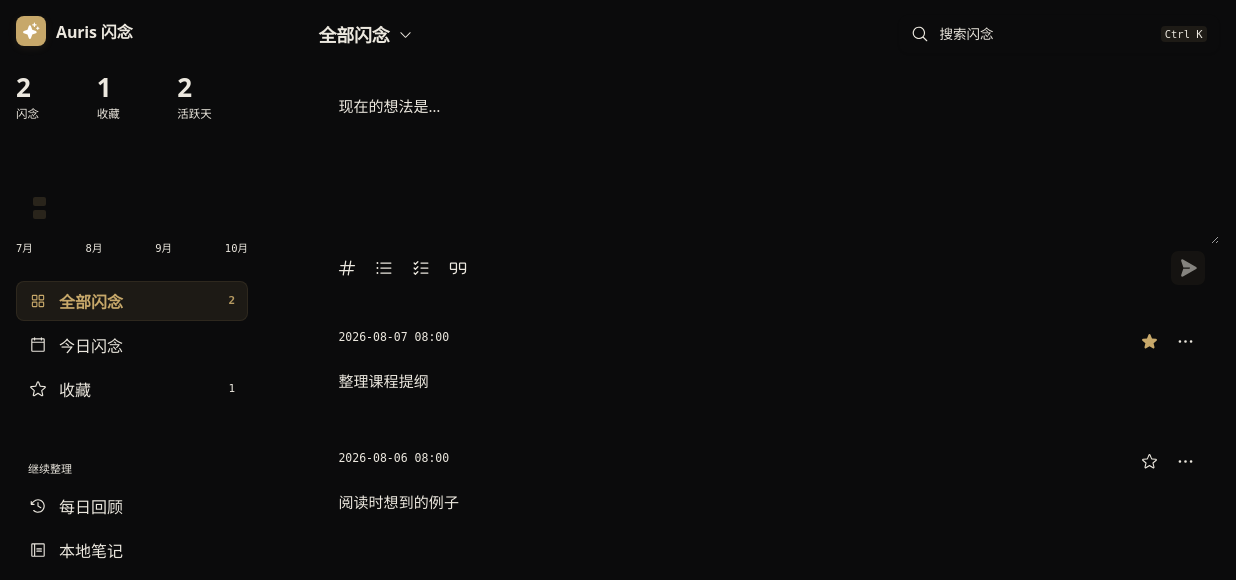
Test: FlashPageClient › keeps the flash and reports when the notes library is unavailable
Expected: the text "整理课程提纲" is shown, [338, 371, 429, 391]
Click the button named "更多操作 整理课程提纲". click: x=1186, y=341
box: [1169, 324, 1203, 358]
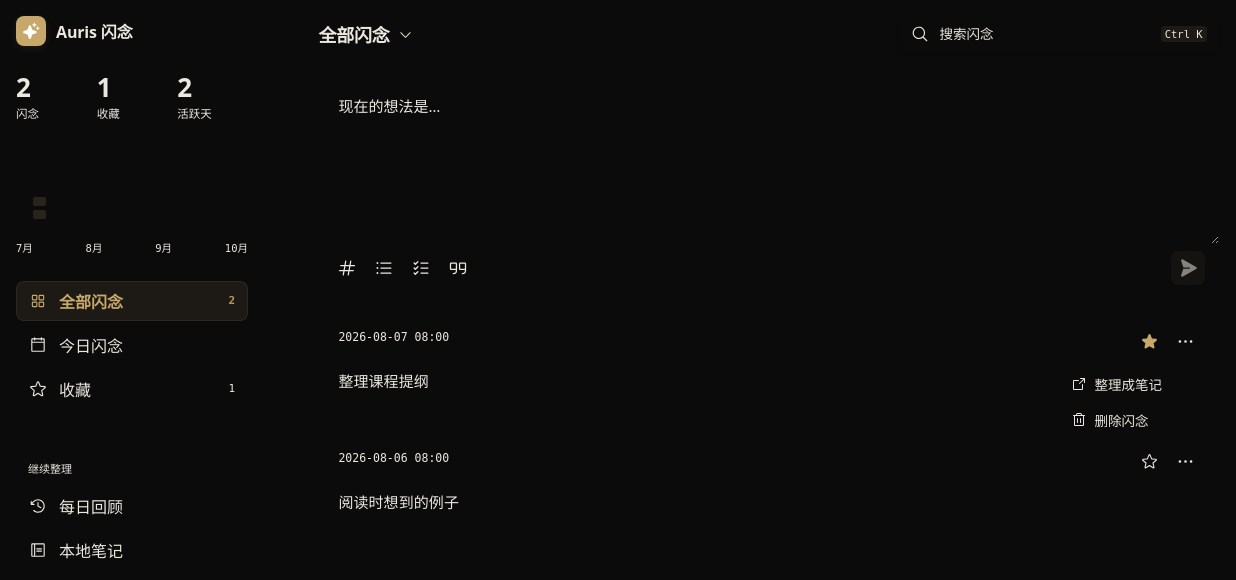
Click the menu item "整理成笔记". click: x=1129, y=384
box: [1061, 366, 1197, 402]
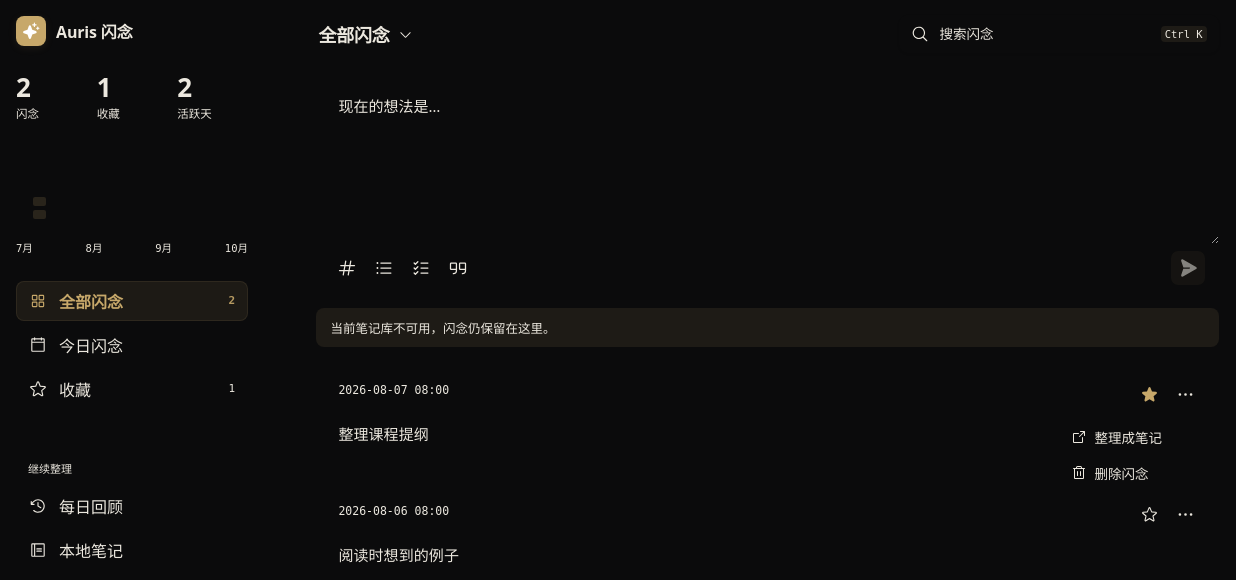
Expected: the text "整理课程提纲" is shown, [338, 424, 429, 444]
Result: the message shows "当前笔记库不可用" at [330, 320, 555, 337]
